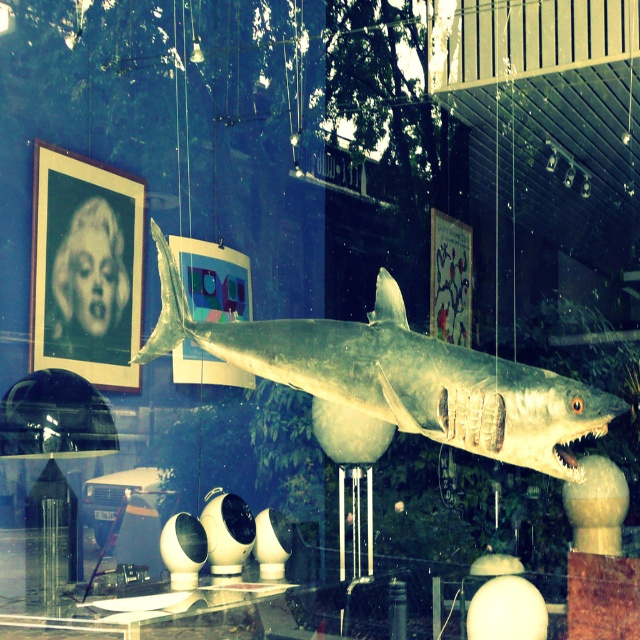Shark: (124, 219, 628, 480)
